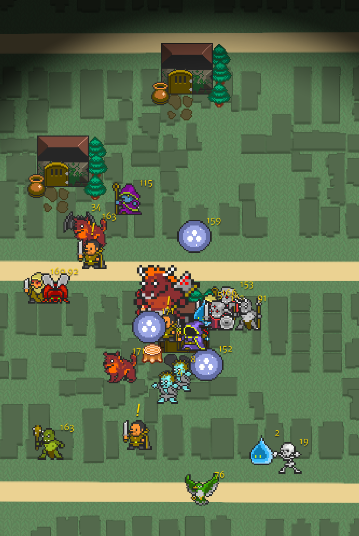monster: (179, 466, 226, 511), (29, 421, 76, 463), (111, 177, 154, 217), (176, 216, 224, 251), (40, 266, 83, 305), (269, 437, 310, 477), (21, 265, 60, 307), (216, 277, 256, 317), (76, 211, 116, 249), (60, 199, 100, 237), (246, 427, 278, 470), (239, 295, 268, 335)
player: (176, 321, 210, 352)
